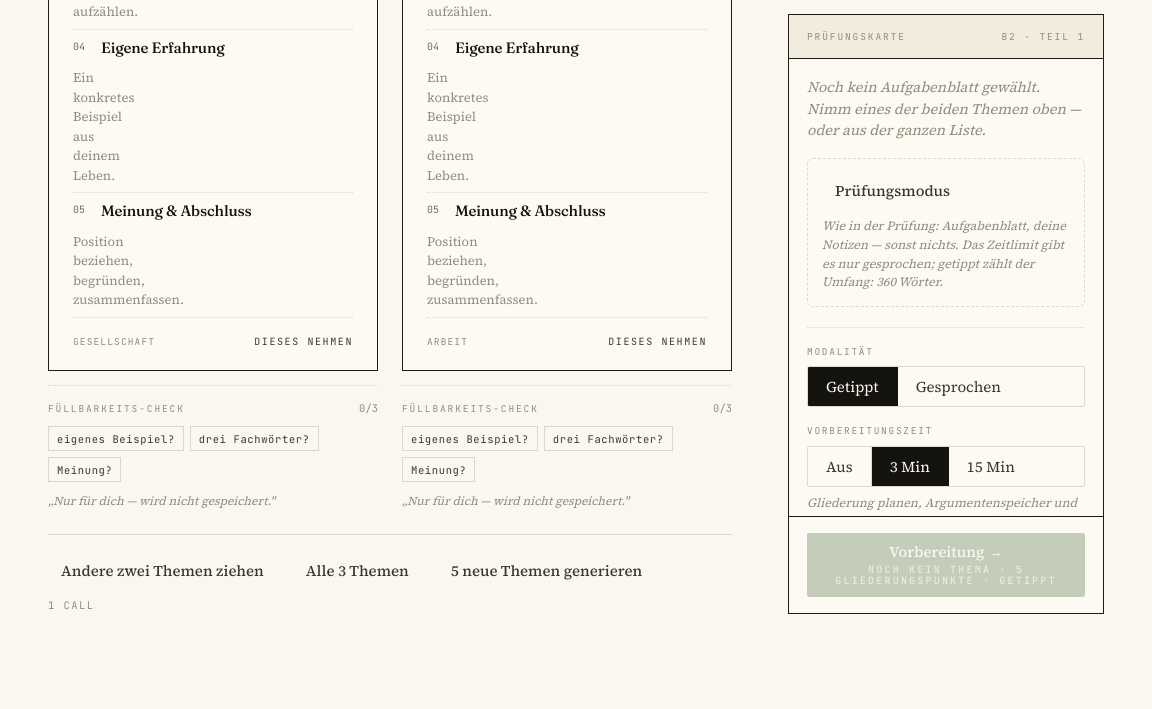
Test: Teil1Setup — Füllbarkeits-Check › is component-local: the counter goes 0/3 → 1/3 and writes nothing to localStorage
(page scrolled)
Expected: the 1st text with class "spr-fill-n" reads "0/3", [359, 400, 378, 414]
Step 1. Click the 1st button with class "spr-tag" → (116,439), box [48, 426, 184, 451]
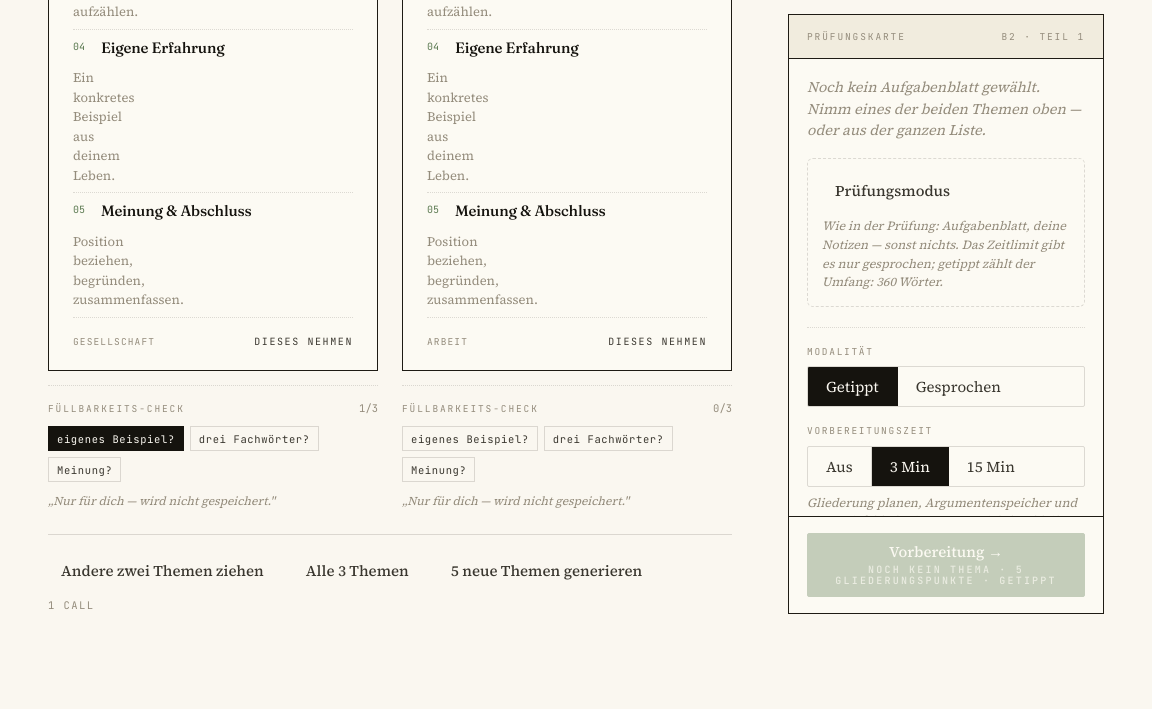
Expected: the element with class "spr-sheet-fill" shows "Nur für dich", [48, 493, 275, 509]
Now the text with class "spr-fill-n" reads "1/3", box [359, 400, 378, 414]
